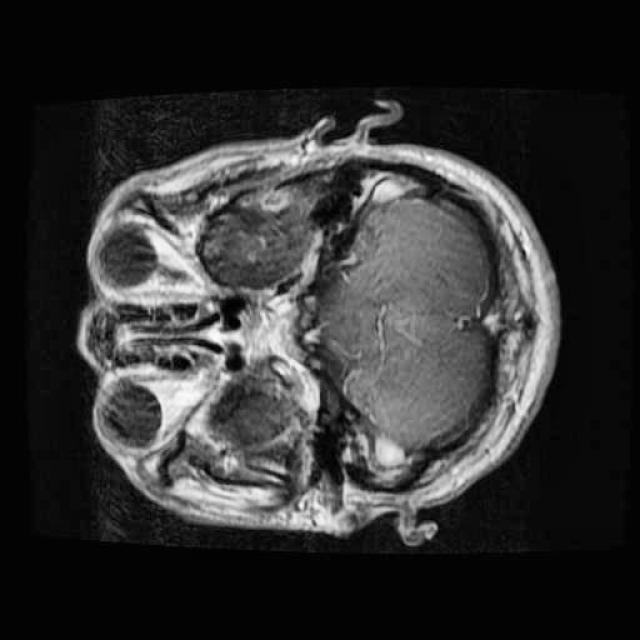Non-Tumor: (222, 180, 299, 223)
